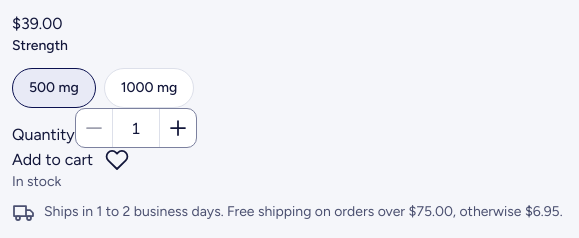
Test: ProductPurchasePanel › switches the displayed price with the selected variant
This screenshot has width=579, height=238.
Expected: the text "$39.00" is shown, left=12, top=14, right=63, bottom=33
Expected: the element "Strength" is shown, left=12, top=37, right=194, bottom=108
Click the radio button labelled "1000 mg".
click(149, 88)  # box left=104, top=68, right=194, bottom=108
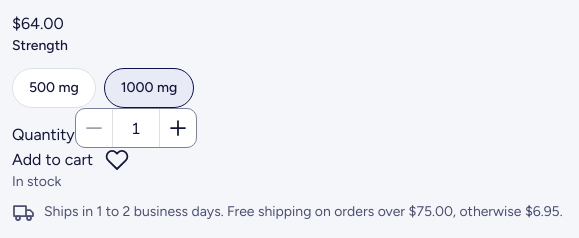
Now the text "$64.00" is shown, box left=12, top=14, right=64, bottom=33
Now the text "$39.00" is gone
